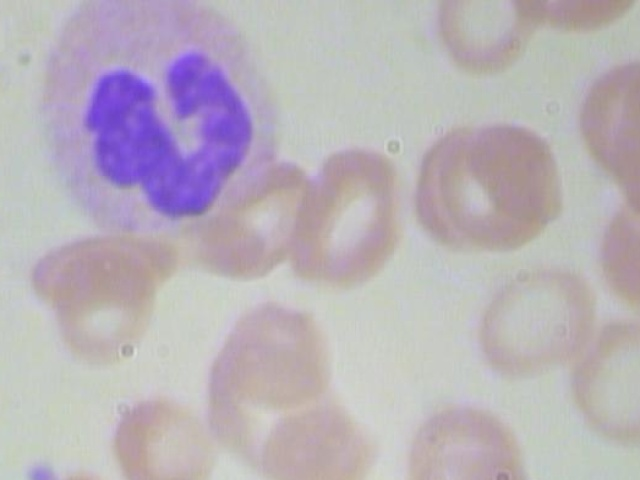Platelets: (7, 458, 65, 480)
RBC: (34, 226, 161, 371), (197, 160, 324, 305), (211, 273, 338, 417), (284, 142, 410, 286), (471, 261, 596, 382), (460, 102, 568, 240), (99, 385, 224, 480), (246, 389, 374, 480), (410, 0, 550, 77), (405, 394, 530, 480)
WBC: (24, 0, 300, 236)
